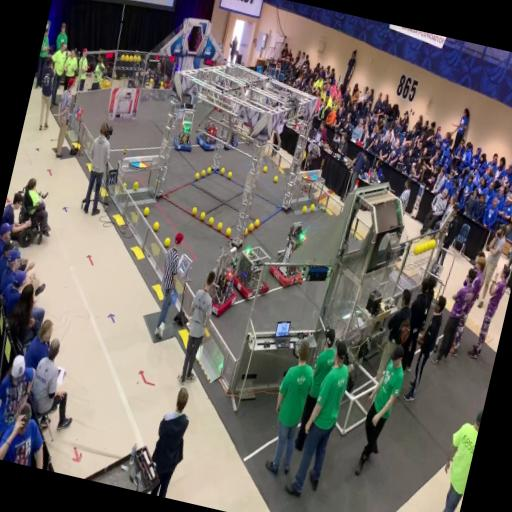robot: (198, 234, 250, 322), (268, 220, 320, 294), (230, 240, 279, 302), (171, 101, 201, 153), (194, 112, 224, 153), (220, 112, 246, 154)
